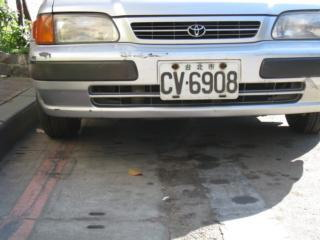plate: (156, 57, 240, 103)
